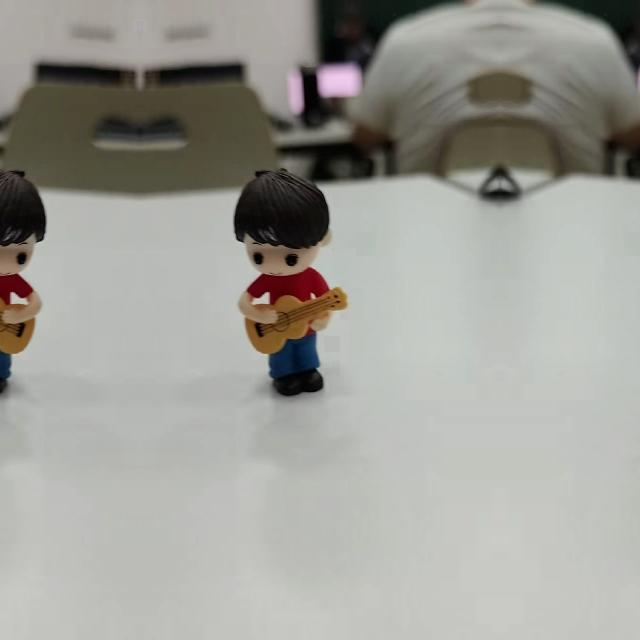man cloth: (241, 273, 333, 307), (0, 273, 39, 307)
man head: (230, 164, 332, 276), (0, 164, 50, 276)
trousers: (264, 330, 322, 400), (0, 330, 16, 400)
